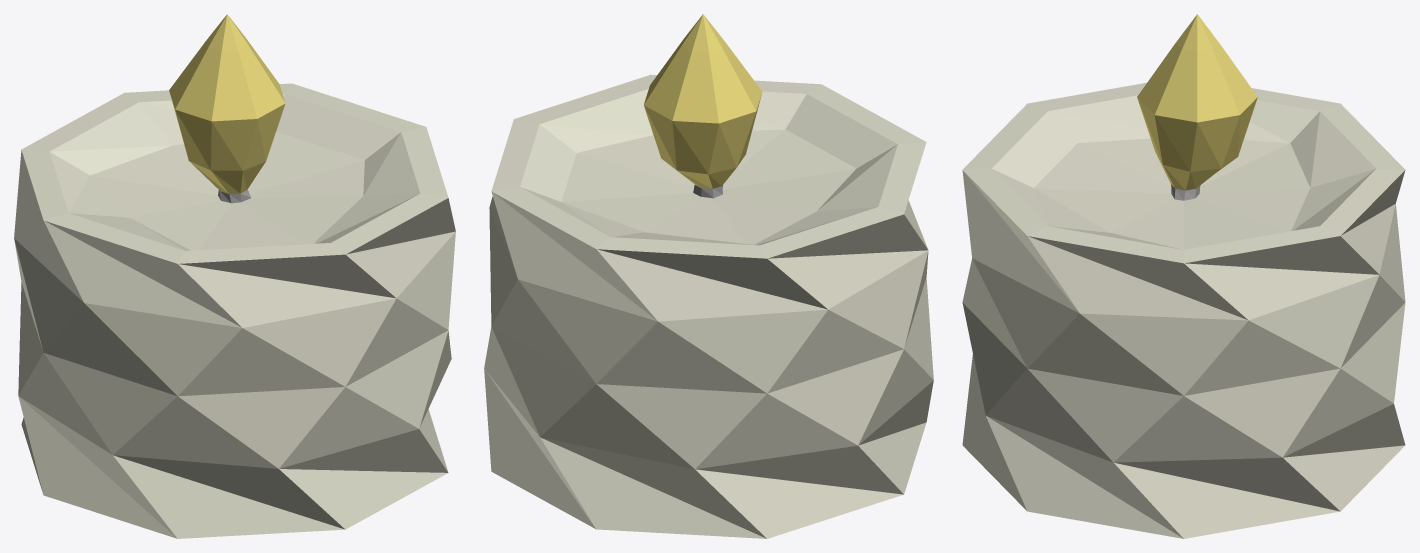
File: candle05.fbx
The picture shows the model from 3 angles, left to right: view 1: azimuth 30°, elevation 25°; view 2: azimuth 150°, elevation 25°; view 3: azimuth 270°, elevation 25°; orthographic projection.
Visible parts, largest first — view 1: pCylinder6; view 2: pCylinder6; view 3: pCylinder6.
Part boxes in pixels (x1,y1,x2,y2): pCylinder6: (14, 14, 455, 538); pCylinder6: (484, 14, 933, 538); pCylinder6: (962, 14, 1405, 538).
Bounding box in the file's own units: 0.00266 × 0.00285 × 0.00266.
